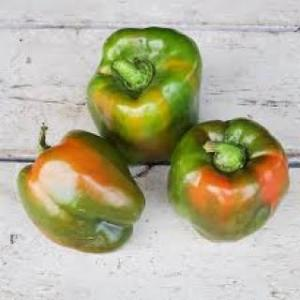bell_pepper: (12, 117, 150, 259), (80, 21, 202, 173), (160, 112, 296, 248)
